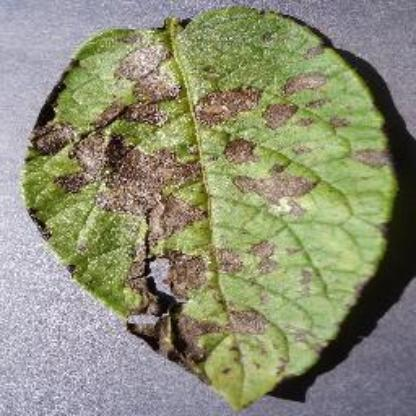Early-Blight: (22, 7, 398, 407)
